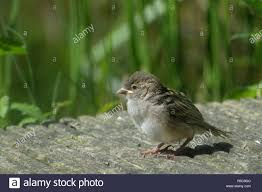hsparrow: (114, 72, 234, 162)
